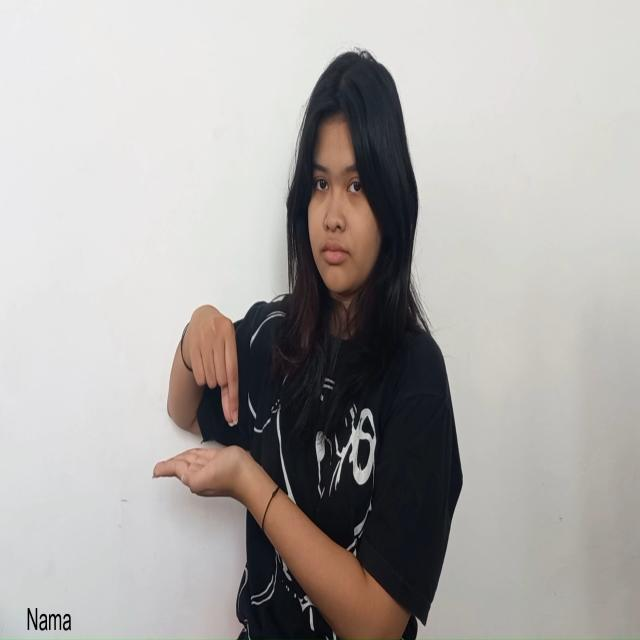Nama -BISINDO-: (150, 302, 249, 508)
